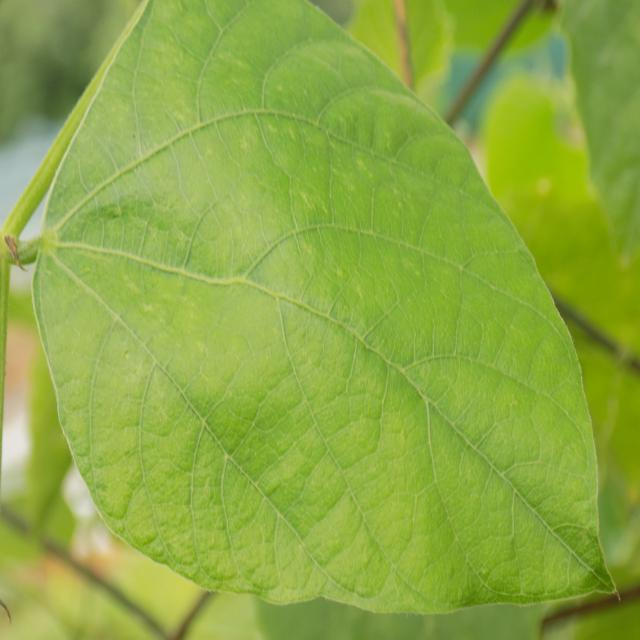Dolicos bean_healthy: (37, 0, 618, 606)
